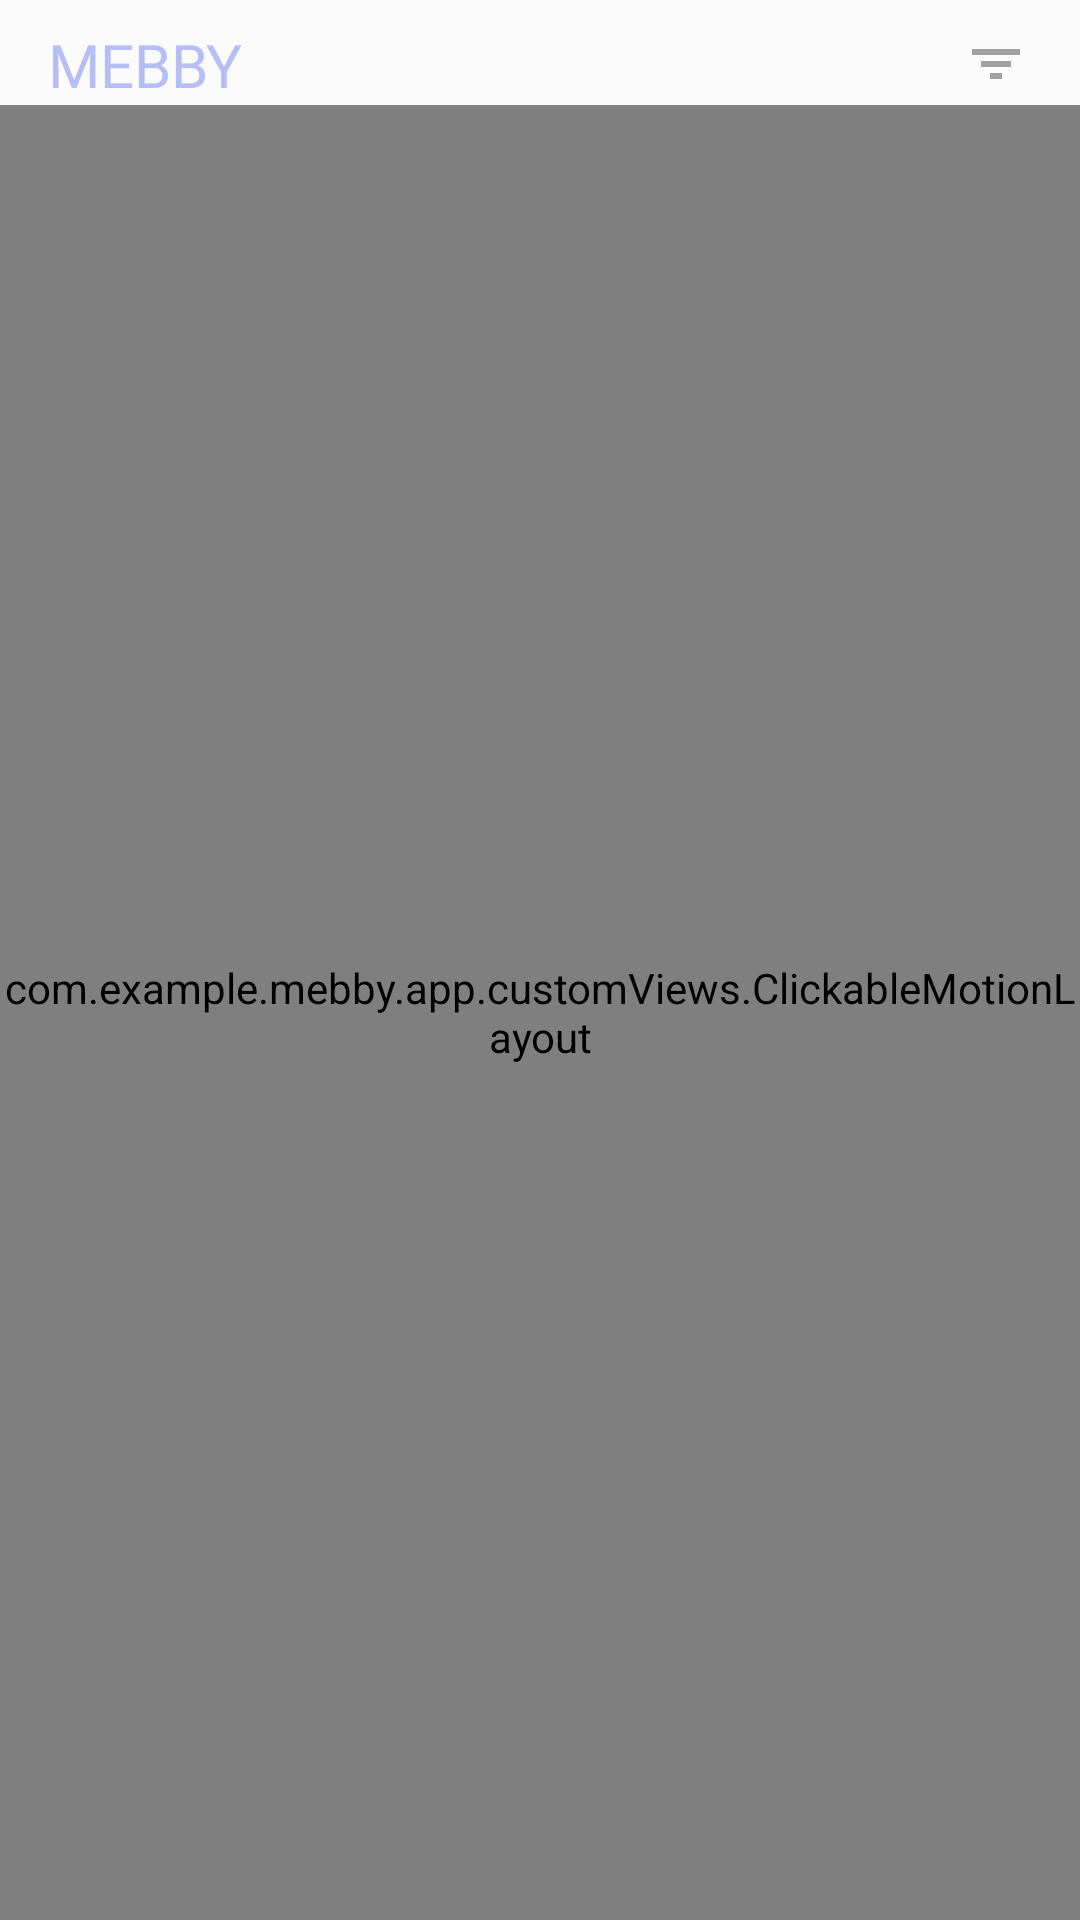

Where icons sit on this 1080 × 1920 app screen, as [left=x1, top=y1, right=x2, bottom=y2]:
Filters: [left=972, top=49, right=1020, bottom=79]
